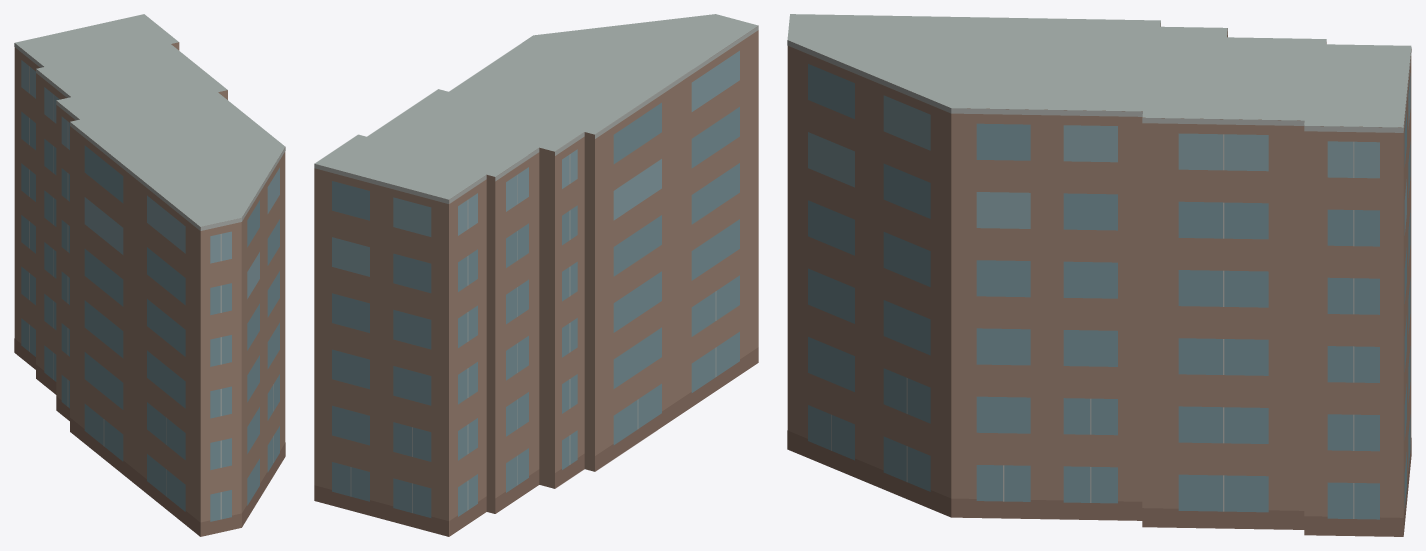
The model's file is survey-upis-32654390.glb.
The picture shows the model from 3 angles, left to right: view 1: azimuth 30°, elevation 25°; view 2: azimuth 150°, elevation 25°; view 3: azimuth 270°, elevation 25°; orthographic projection. The views are drawn at different scales.
Visible parts, largest first — view 1: survey-upis-32654390.tmp; view 2: survey-upis-32654390.tmp; view 3: survey-upis-32654390.tmp.
Boxes of the visible parts, box(x1,y1,x2,y2) form: survey-upis-32654390.tmp: box(14, 14, 285, 536); survey-upis-32654390.tmp: box(314, 14, 758, 536); survey-upis-32654390.tmp: box(787, 14, 1411, 536).
Size of the model in its own units: 10.86 by 18.25 by 25.22.
